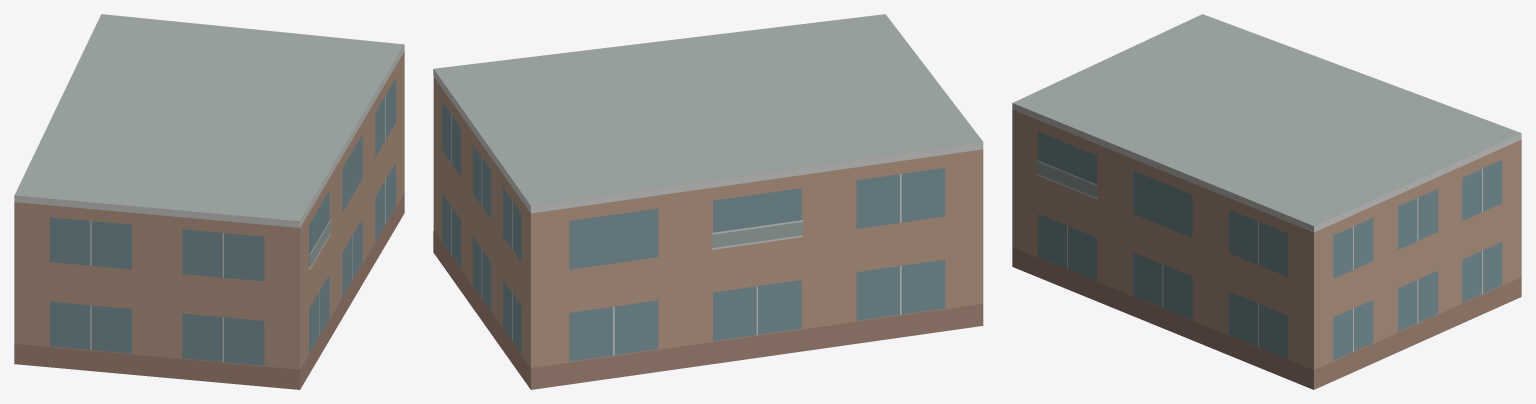
Rendered from survey-upis-32866456.glb.
3 renders of one model, left to right at view 1: azimuth 30°, elevation 25°; view 2: azimuth 150°, elevation 25°; view 3: azimuth 270°, elevation 25°, orthographic. The views are drawn at different scales.
Visible parts, largest first — view 1: survey-upis-32866456.tmp; view 2: survey-upis-32866456.tmp; view 3: survey-upis-32866456.tmp.
Part boxes in pixels (x1,y1,x2,y2): survey-upis-32866456.tmp: (14, 14, 404, 389); survey-upis-32866456.tmp: (433, 14, 983, 389); survey-upis-32866456.tmp: (1012, 14, 1521, 389).
Size of the model in its own units: 16.95 by 6.1 by 17.19.
